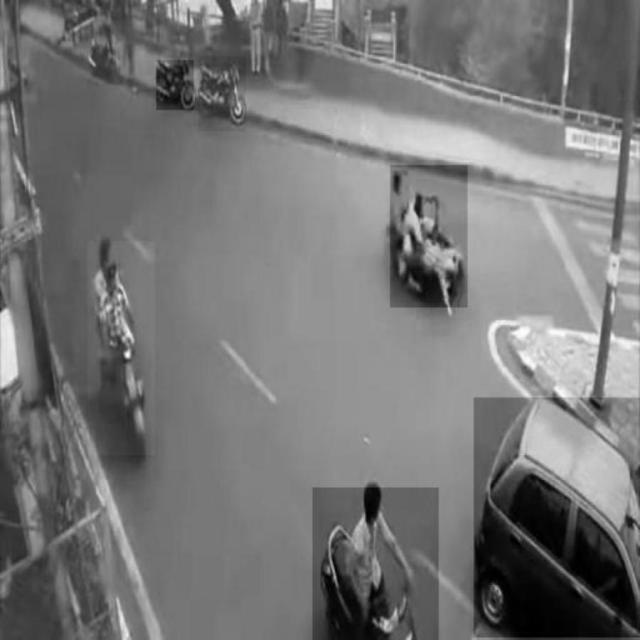accident: (391, 165, 468, 307)
vehicle: (474, 398, 640, 638), (313, 488, 439, 640), (87, 242, 155, 456), (199, 57, 246, 131), (157, 61, 194, 111)
